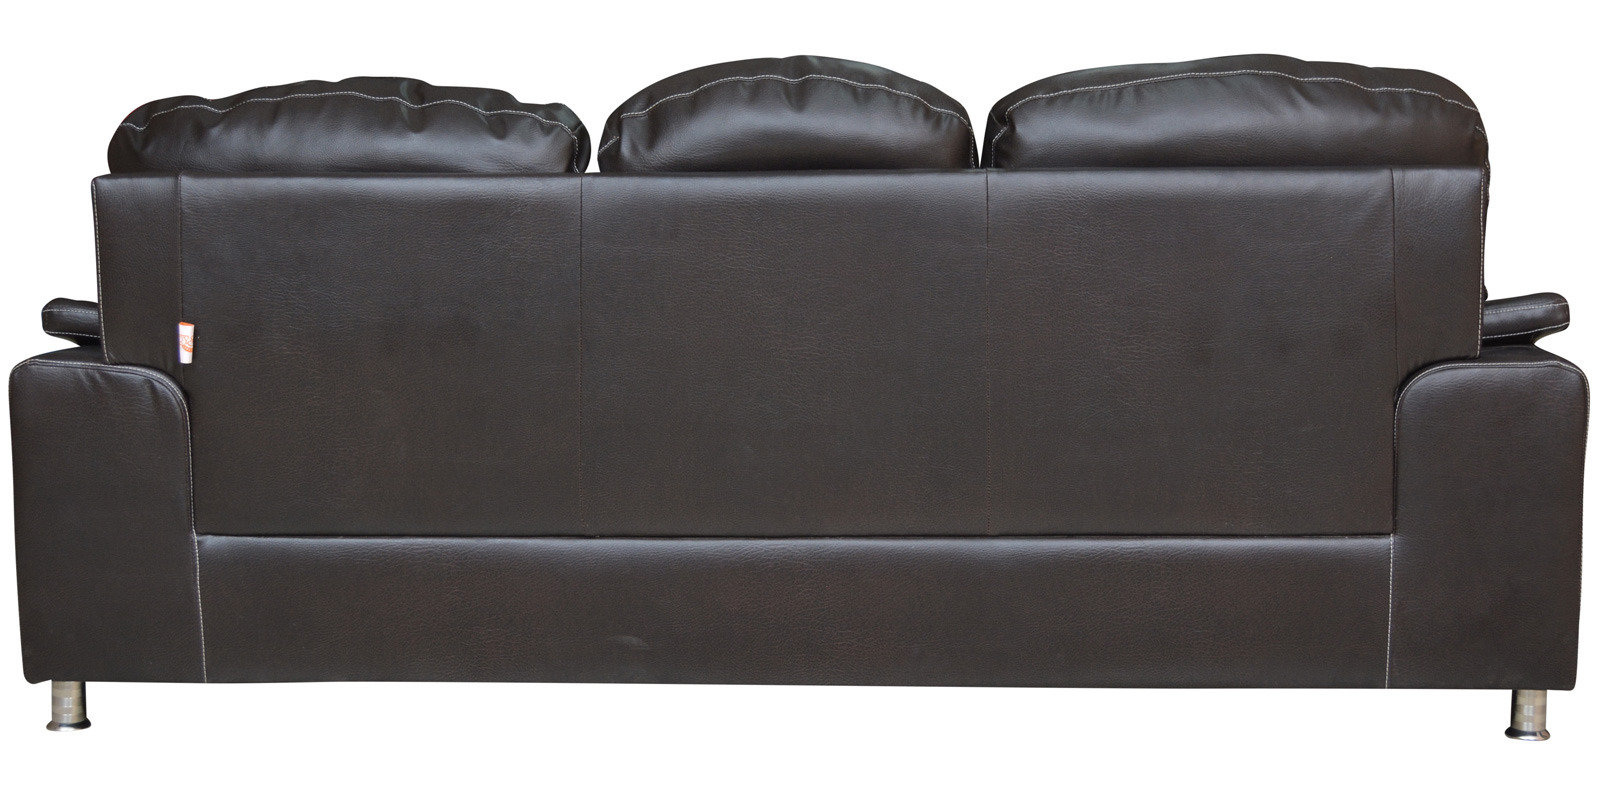Magnum Three Seater Sofa in Black Leatherette by Crystal Furnitech: (7, 50, 1589, 742)
